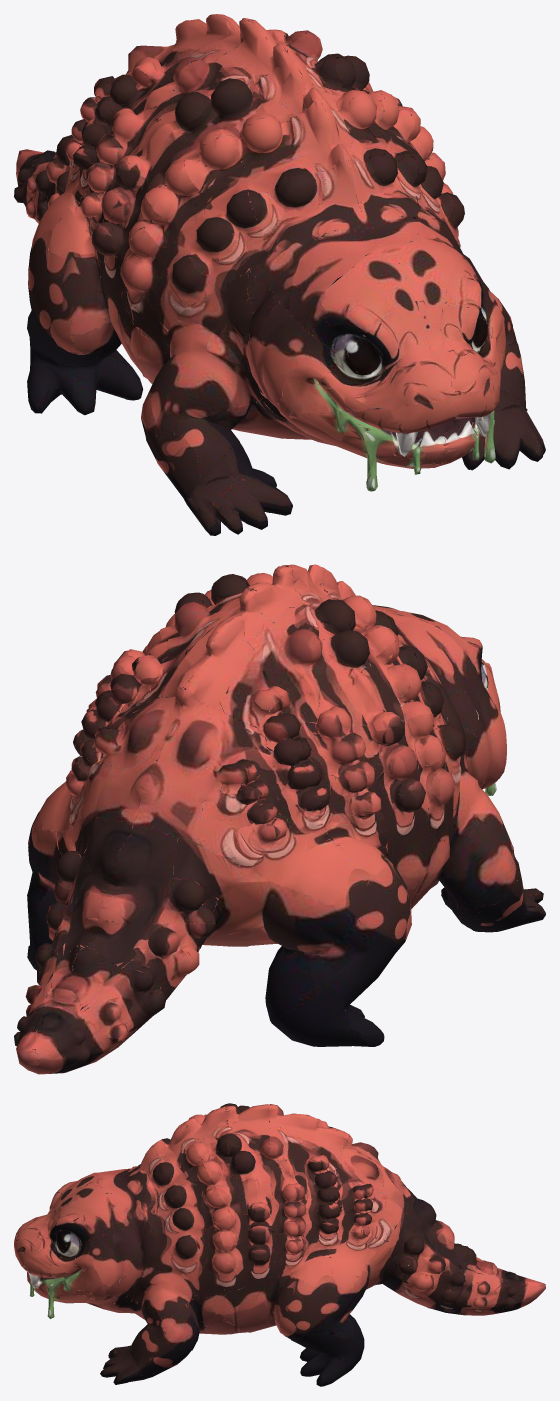
3 views of the same model, one above another, from view 1: azimuth 30°, elevation 25°; view 2: azimuth 150°, elevation 25°; view 3: azimuth 270°, elevation 25° (orthographic). The views are drawn at different scales.
Visible parts, largest first — view 1: Mesh_0; view 2: Mesh_0; view 3: Mesh_0.
Boxes of the visible parts, box(x1,y1,x2,y2) form: Mesh_0: box(14, 14, 545, 535); Mesh_0: box(14, 564, 545, 1074); Mesh_0: box(14, 1103, 545, 1386).
Size of the model in its own units: 0.9124 by 0.9138 by 1.9.
1 material, 1 textured.
